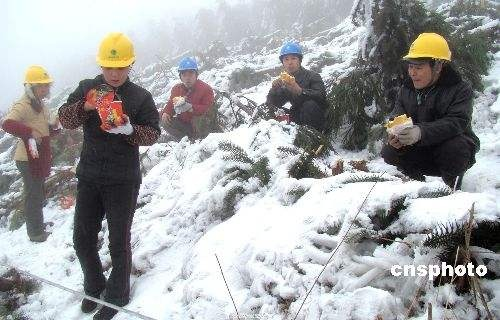blue: (174, 55, 199, 87), (278, 41, 302, 70)
yellow: (404, 34, 455, 87), (97, 32, 135, 86), (23, 64, 51, 102)
